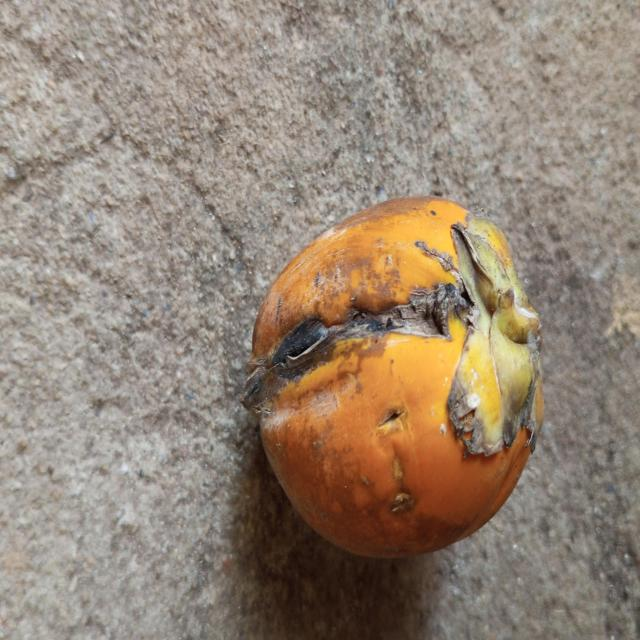damaged: (242, 197, 545, 563)
